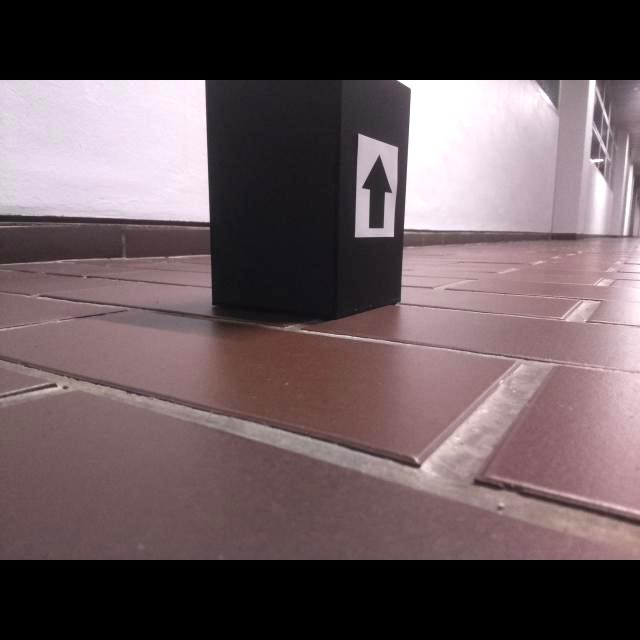UP: (361, 153, 393, 230)
